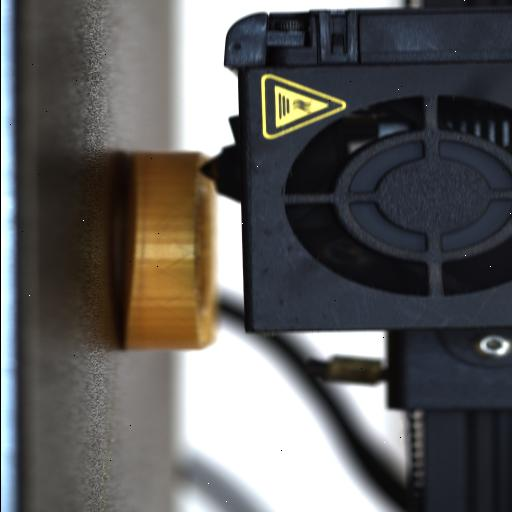warp: (112, 152, 140, 351)
